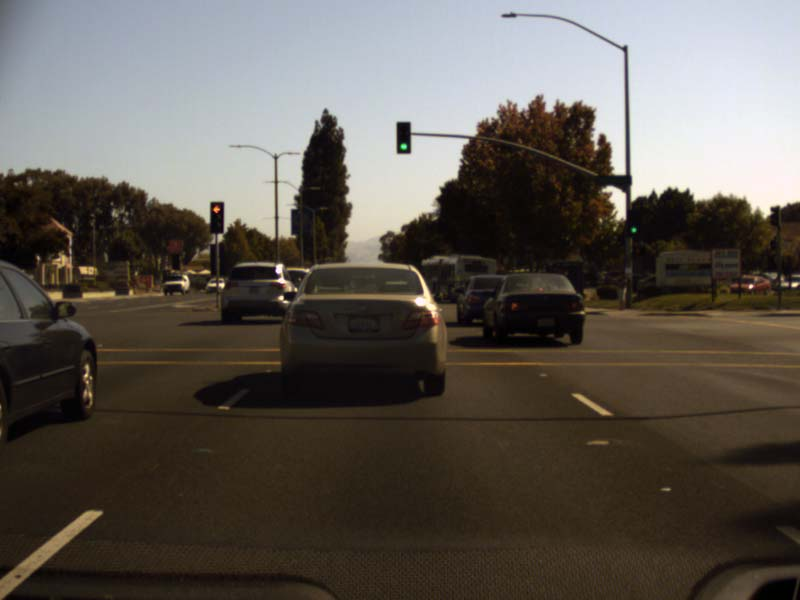Green: (396, 121, 410, 153), (628, 209, 639, 236)
Red: (210, 201, 223, 233), (633, 244, 643, 255)
